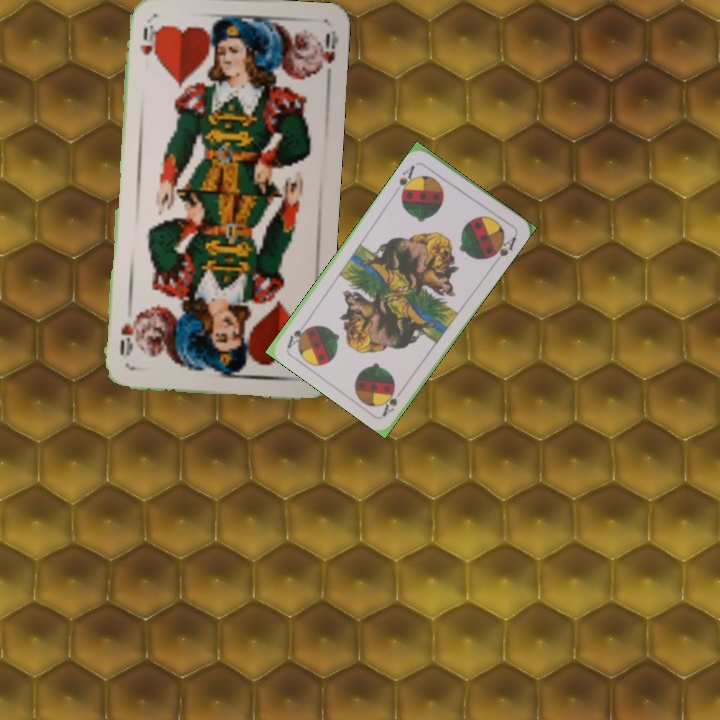HO: (135, 16, 156, 58)
SA: (379, 382, 407, 418), (395, 161, 419, 198)
